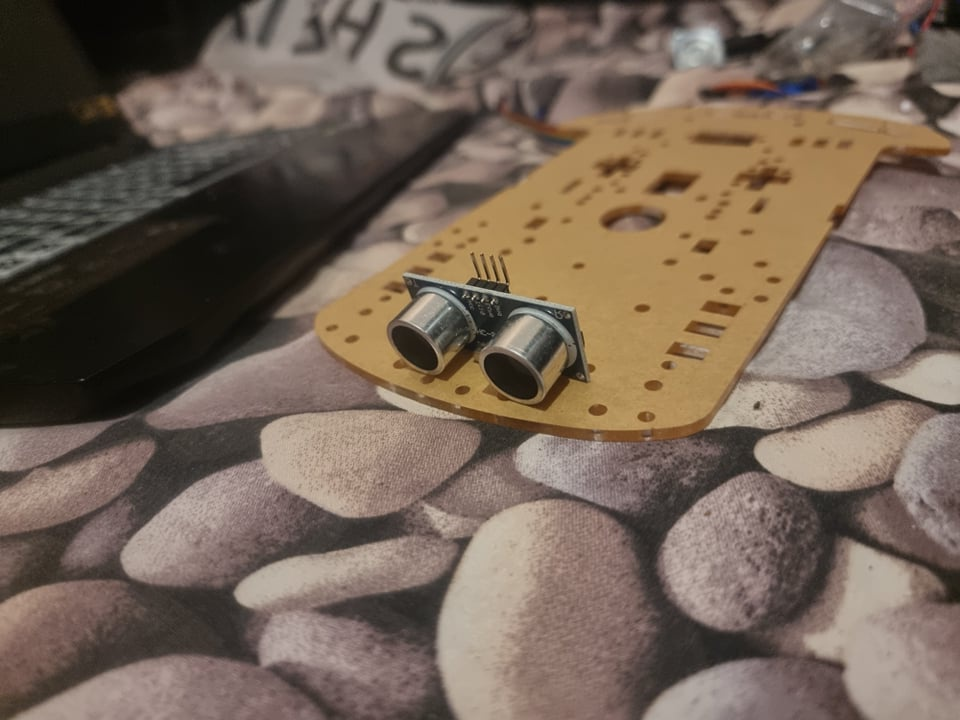SENSOR: (383, 270, 582, 409)
